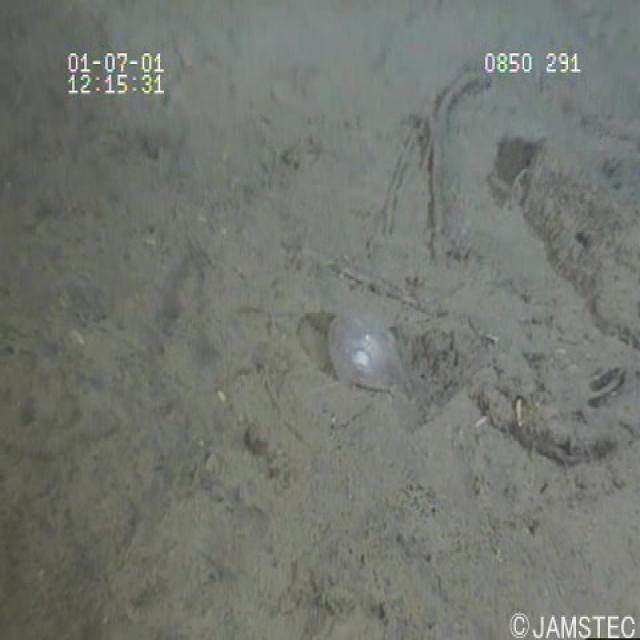plastic: (320, 293, 417, 416)
